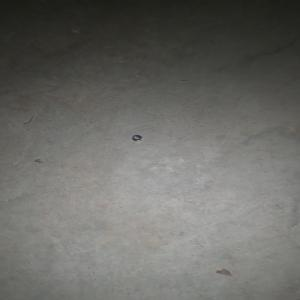Nut: (131, 135, 141, 141)
